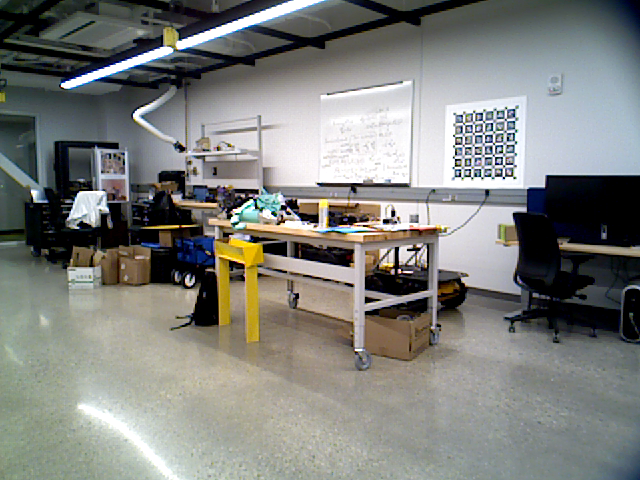painting4: (444, 97, 522, 188)
